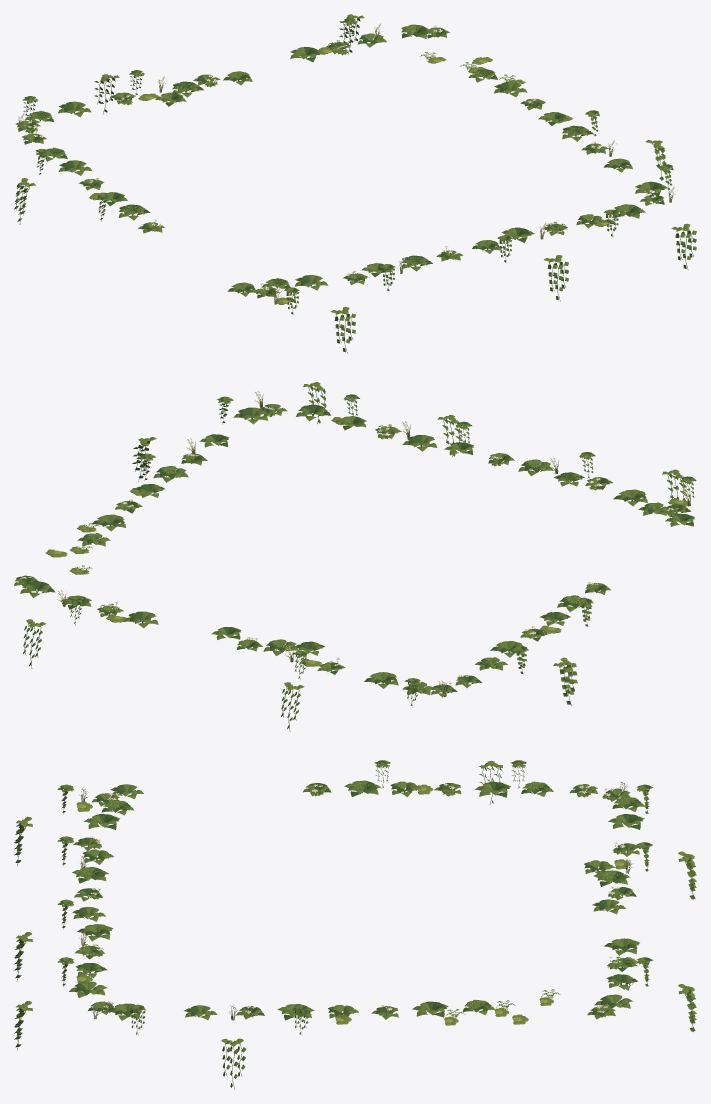
File: courtyard-vegetation-layout.glb
3 renders of one model, top to bottom at view 1: azimuth 30°, elevation 25°; view 2: azimuth 150°, elevation 25°; view 3: azimuth 270°, elevation 25°, orthographic. The views are drawn at different scales.
Visible parts, largest first — view 1: courtyard-foliage (×4); view 2: courtyard-foliage (×4); view 3: courtyard-foliage (×4), courtyard-moss.
Part boxes in pixels (x1,y1,x2,y2): courtyard-foliage (×4): (14, 14, 696, 353); courtyard-foliage (×4): (14, 382, 696, 731); courtyard-foliage (×4): (14, 760, 696, 1089); courtyard-moss: (335, 997, 553, 1025).
Bounding box in the file's own units: 49.86 × 5.03 × 50.16.
